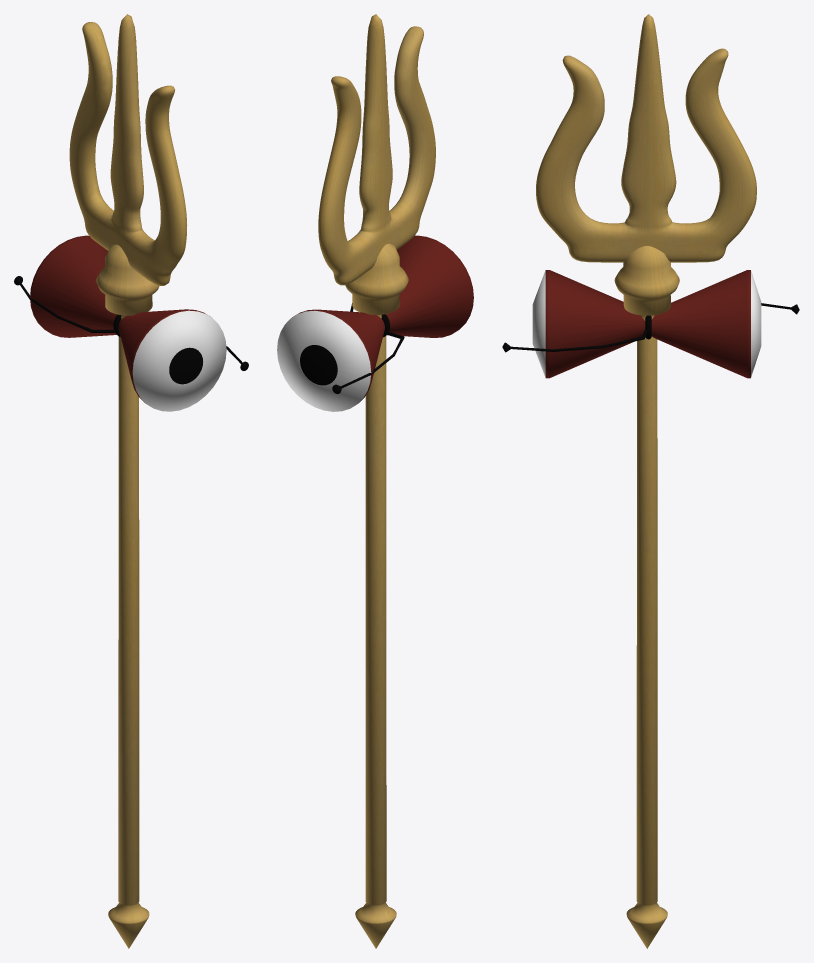
File: Trishul.fbx
The picture shows the model from 3 angles, left to right: view 1: azimuth 30°, elevation 25°; view 2: azimuth 150°, elevation 25°; view 3: azimuth 270°, elevation 25°; orthographic projection.
Parts seen in each view (by area): view 1: upper, handle, damru; view 2: upper, handle, damru; view 3: upper, handle, damru.
Boxes of the visible parts, x1,y1,x2,y2 form: upper: (69,14,187,285); handle: (96,244,159,948); damru: (30,235,226,411); upper: (318,14,435,285); handle: (345,243,408,948); damru: (277,235,473,411); upper: (536,14,756,262); handle: (614,246,679,948); damru: (532,270,761,378).
Size of the model in its own units: 106 by 951 by 274.
Materials: 4 (1 with a texture image).
